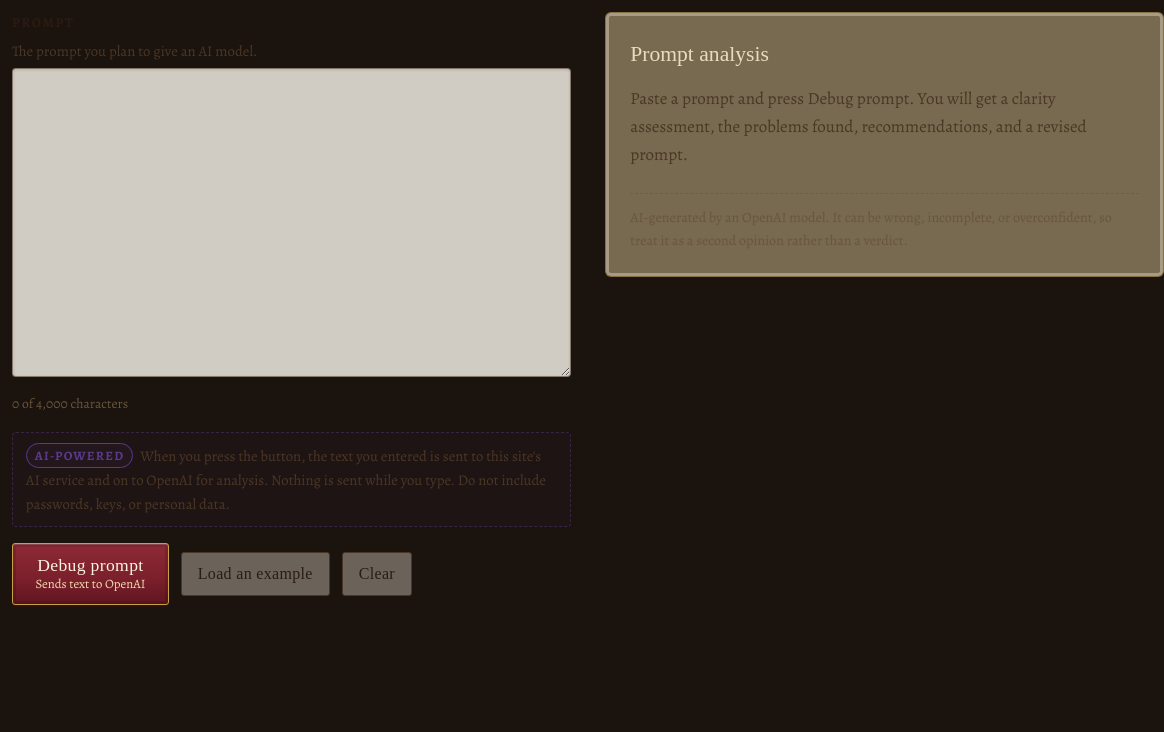
Scenario: AI instruments: errors › HTTP 429 rate_limited shows a friendly message with the code beneath
Type "Summarise this" into the text box labelled "Prompt" at (291, 223), box [12, 68, 571, 378]
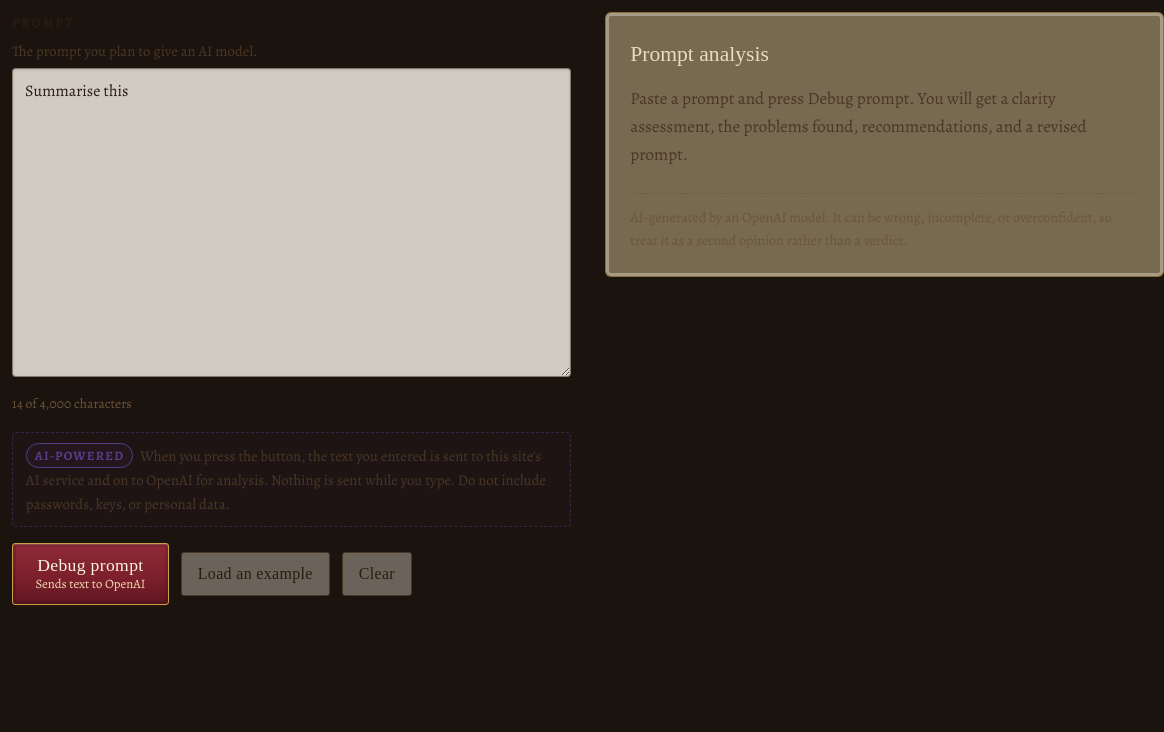
Click the button "Debug prompt Sends text to OpenAI" at (90, 574), box [12, 543, 169, 605]
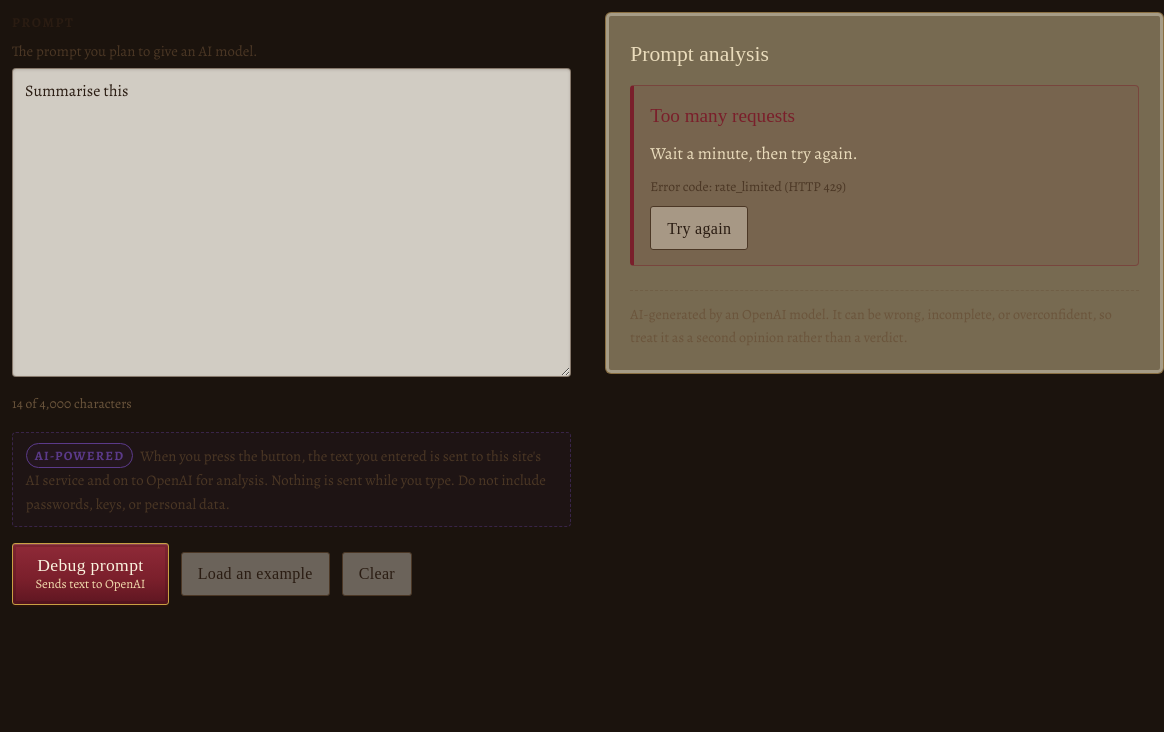
Check: the message shows "Too many requests", box [650, 105, 795, 126]
